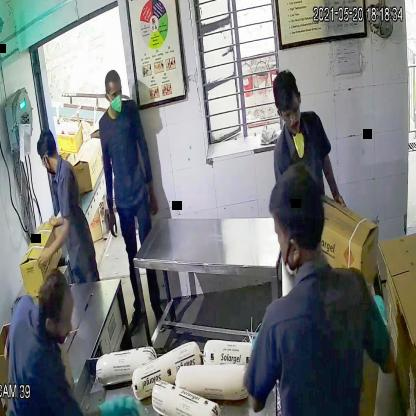goggles: (276, 106, 304, 124)
no_goggles: (104, 86, 123, 102)
